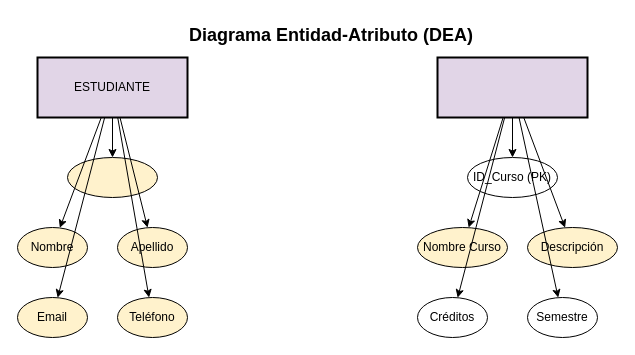
Image size: 635x355. Some labels were removed from this diagram. Each missing label, with the centre of its shape:
"CURSO" belongs at (512,87).
"ID_Estudiante (PK)" belongs at (112,177).
